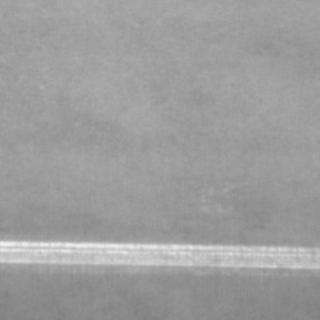scratches: (0, 237, 308, 269)
